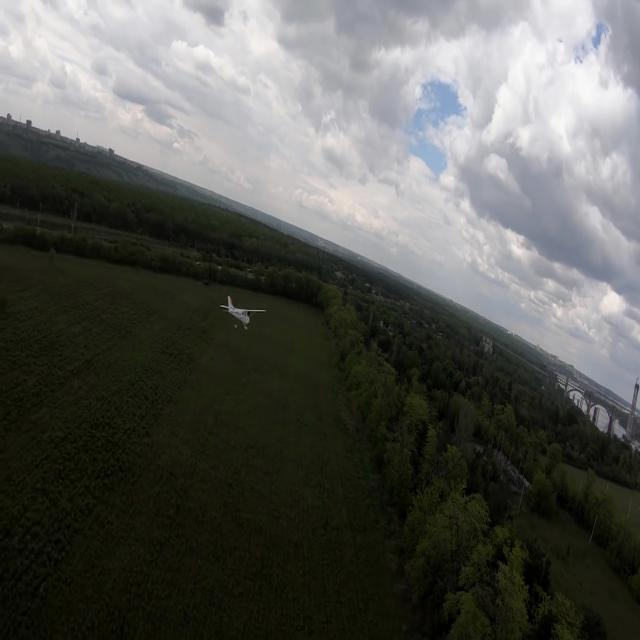iha: (219, 294, 267, 333)
